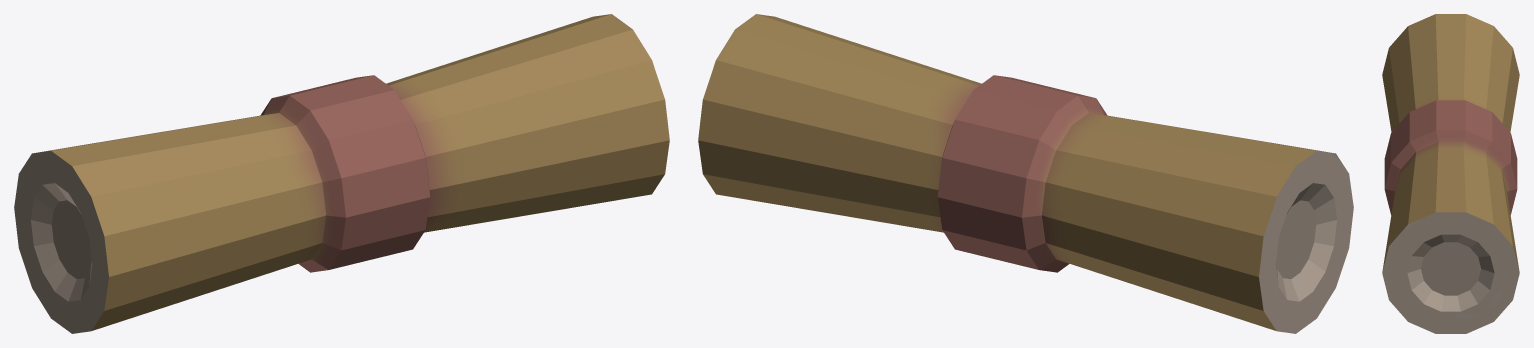
The model's file is pergaminho.fbx.
3 renders of one model, left to right at view 1: azimuth 30°, elevation 25°; view 2: azimuth 150°, elevation 25°; view 3: azimuth 270°, elevation 25°, orthographic. The views are drawn at different scales.
Visible parts, largest first — view 1: Cylinder; view 2: Cylinder; view 3: Cylinder.
Boxes of the visible parts, x1,y1,x2,y2 form: Cylinder: (14, 14, 669, 333); Cylinder: (698, 14, 1353, 333); Cylinder: (1382, 14, 1519, 333).
Bounding box in the file's own units: 840 × 240 × 246.
Materials: 1 (1 with a texture image).
